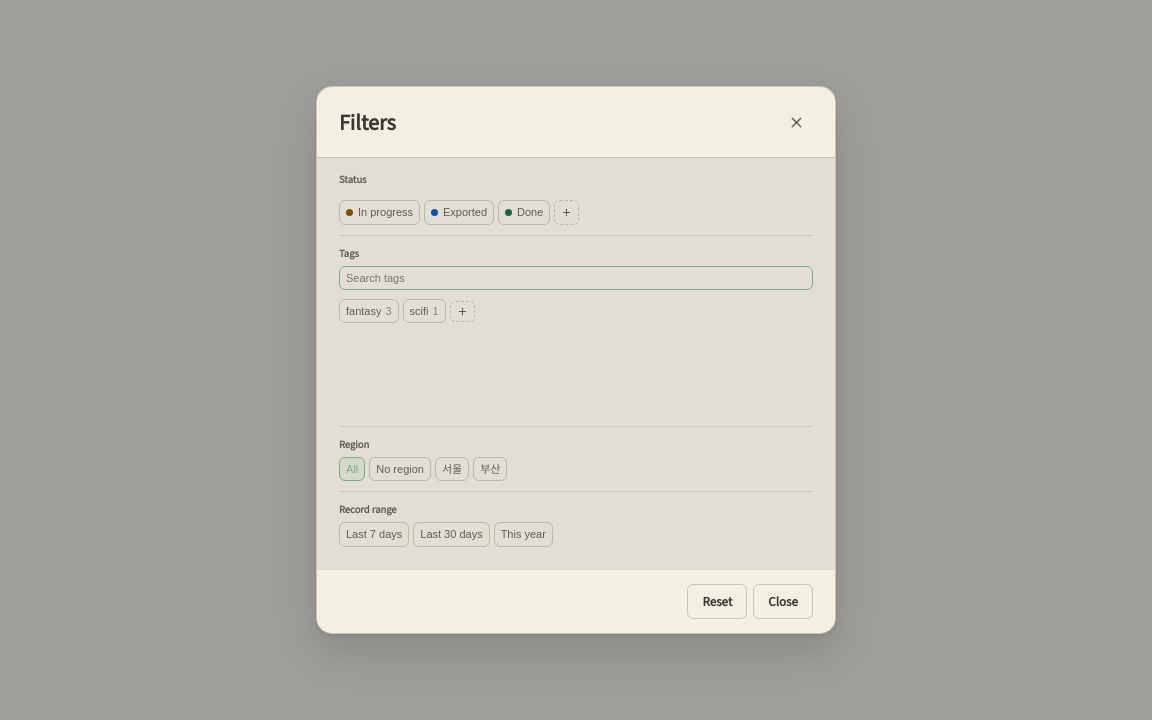
Test: FilterModal › tag search input filters the cloud
Expected: the text "fantasy" is shown, [346,304,382,318]
Expected: the text "scifi" is shown, [410,304,429,318]
Type "fan" into the field with placeholder "Search tags".
click(576, 278); type("fan")  # box [339,266,813,290]
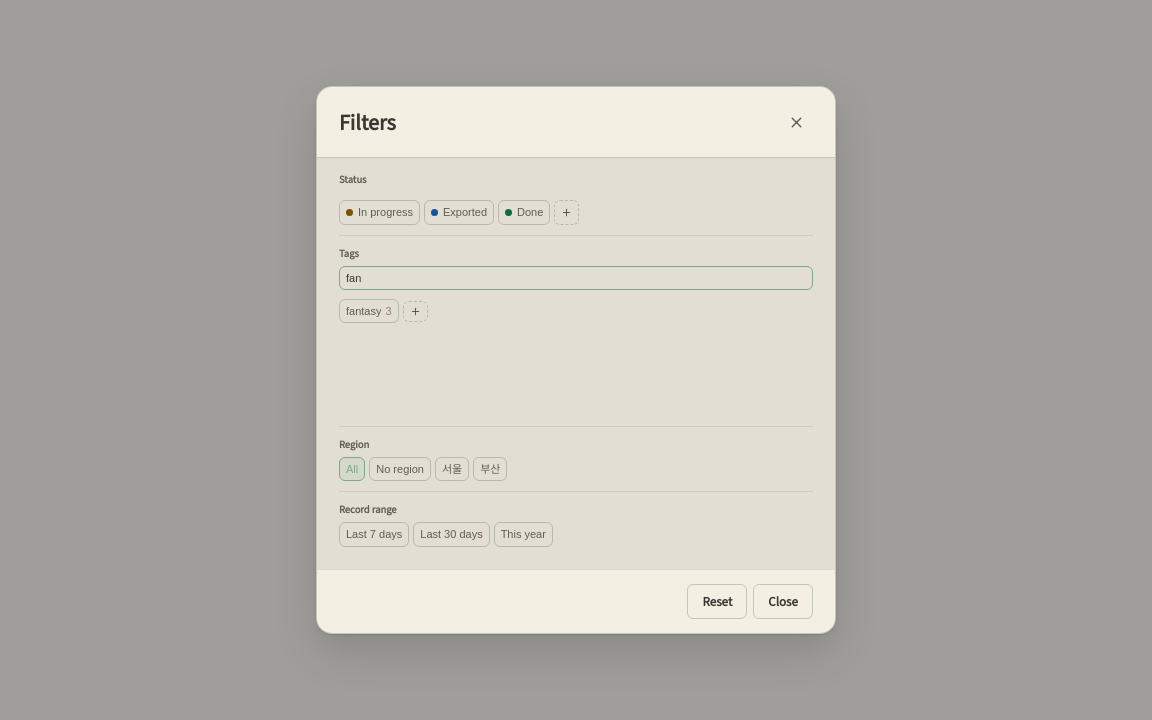
Expected: the text "fantasy" is shown, [346,304,382,318]
Expected: the button "scifi" is gone
